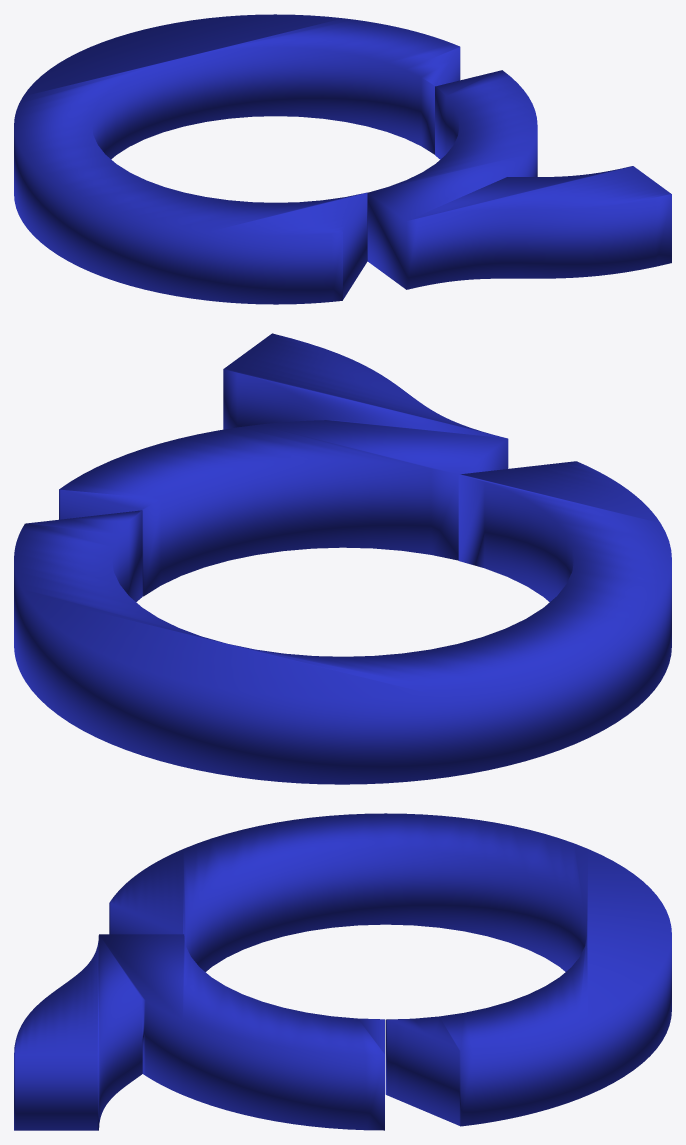
The model's file is qausal.glb.
3 renders of one model, top to bottom at view 1: azimuth 30°, elevation 25°; view 2: azimuth 150°, elevation 25°; view 3: azimuth 270°, elevation 25°, orthographic. The views are drawn at different scales.
Parts seen in each view (by area): view 1: Curve.001, Curve; view 2: Curve.001, Curve; view 3: Curve.001, Curve.
Part boxes in pixels (x1,y1,x2,y2): Curve.001: (14,14,460,304); Curve: (367,70,671,289); Curve.001: (14,461,671,784); Curve: (59,333,508,596); Curve.001: (109,813,671,1126); Curve: (14,934,384,1130).
Size of the model in its own units: 0.1881 by 0.0273 by 0.2163.
